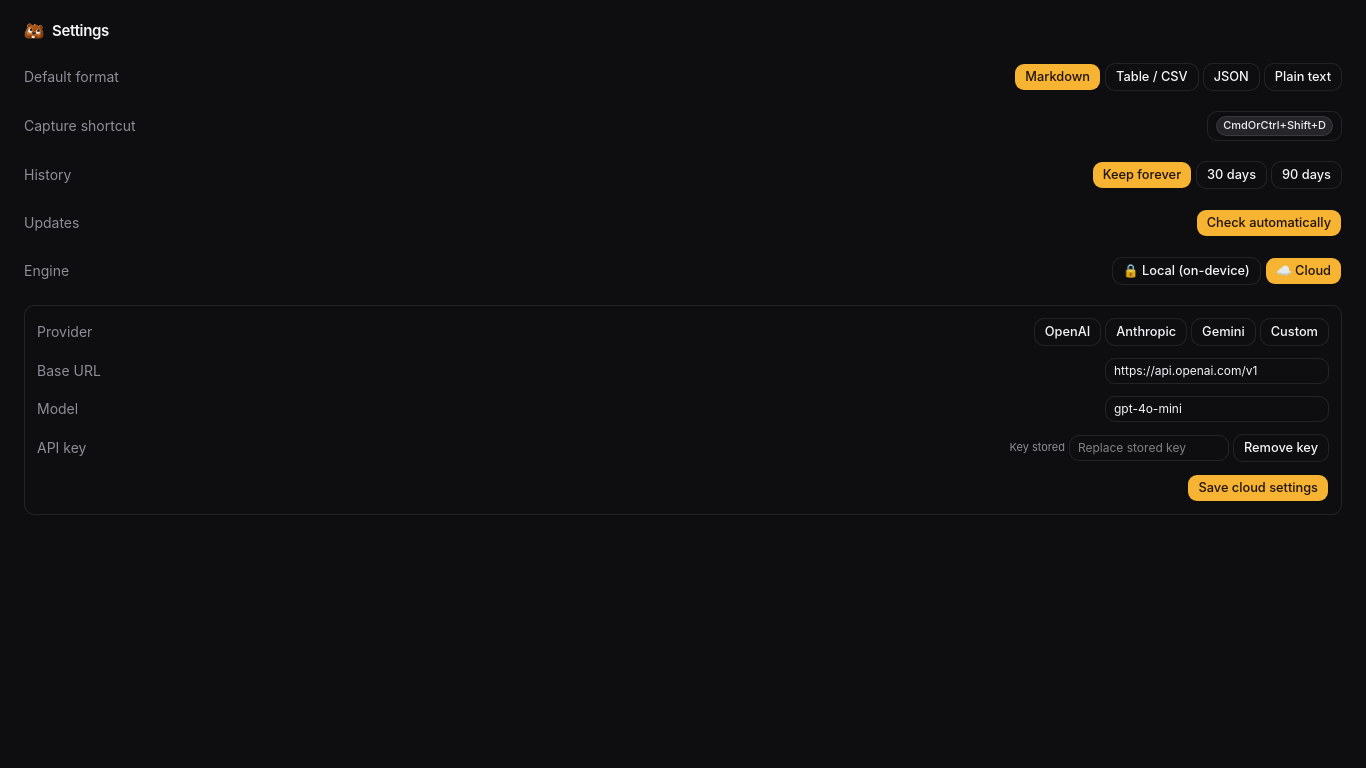
Scenario: SettingsPanel › surfaces the backend's provider-change rejection in the cloud panel when no new key is typed
Check: the field named "Base URL" is shown, box x1=1105 y1=358 x2=1329 y2=384
Click the button "Anthropic": [1146, 332] box x1=1105 y1=318 x2=1187 y2=346
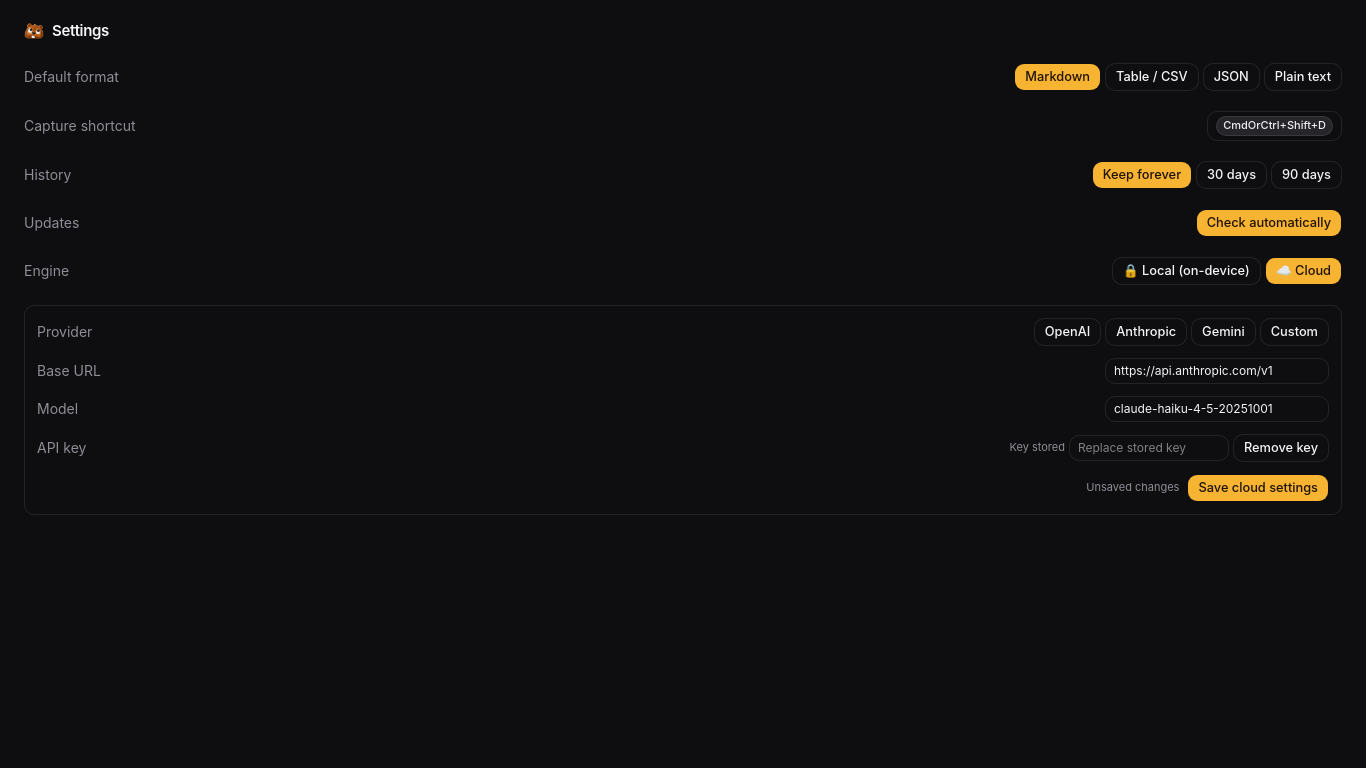
Click the button "Save cloud settings": [1258, 488] box x1=1187 y1=474 x2=1329 y2=502
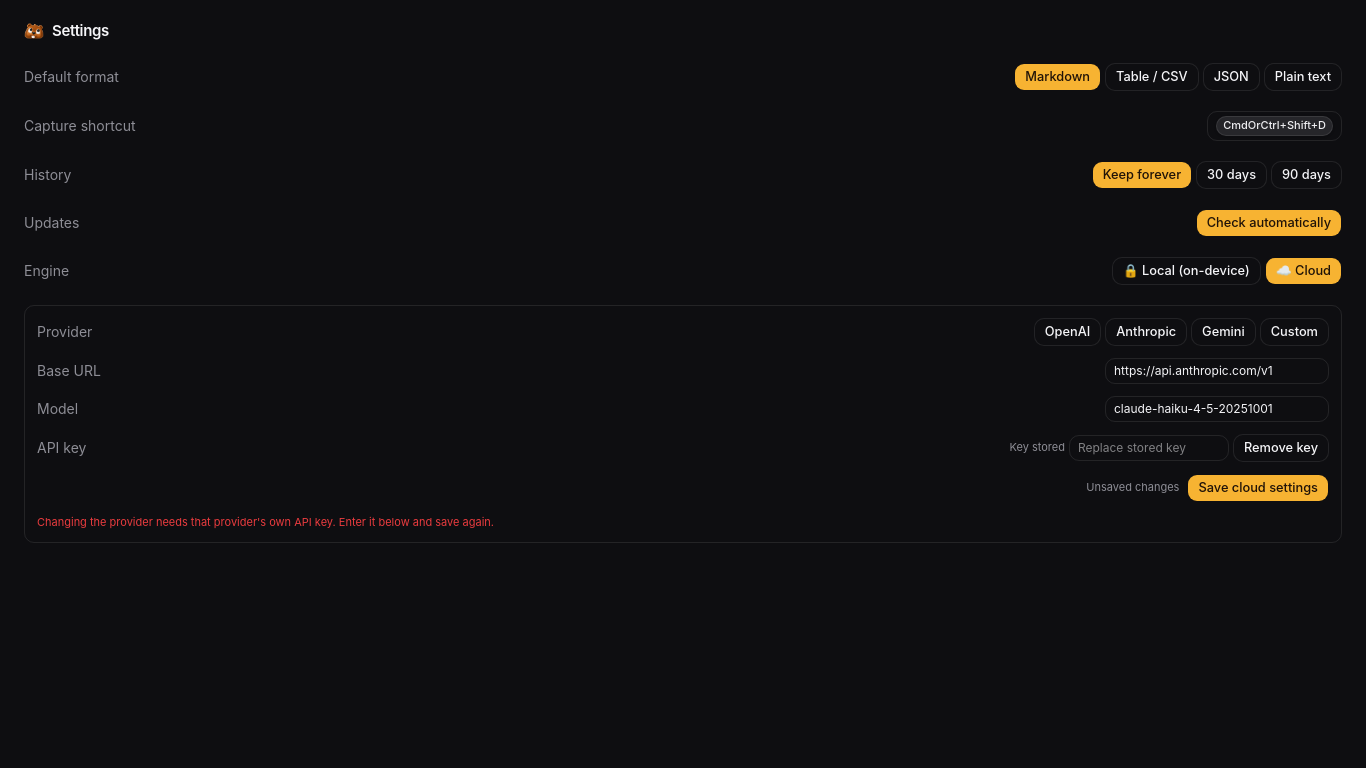
Check: the field named "Base URL" holds "https://api.anthropic.com/v1", box x1=1105 y1=358 x2=1329 y2=384
Check: the text "own API key" is shown, box x1=37 y1=514 x2=494 y2=528
